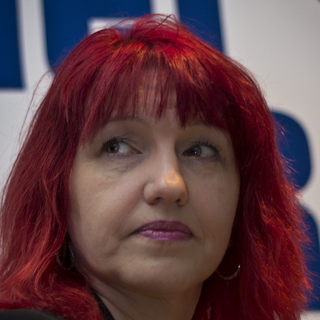eye: (96, 134, 140, 162), (177, 139, 221, 164)
